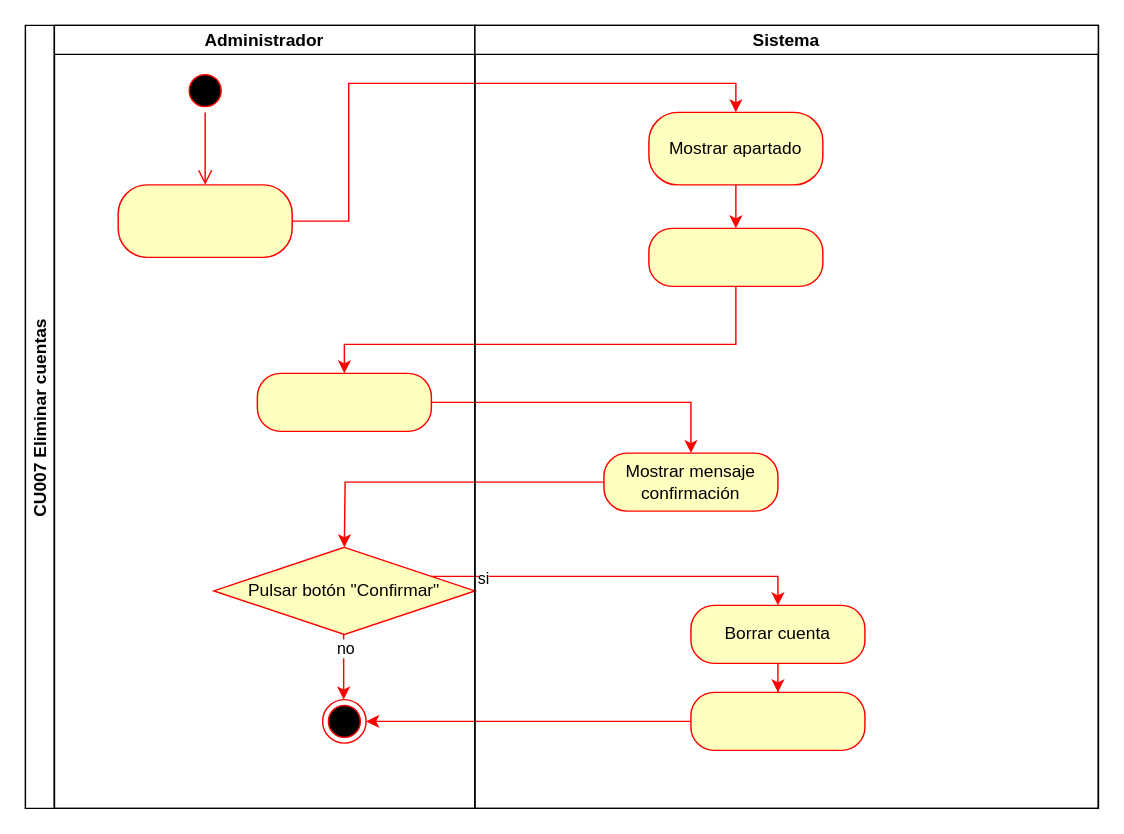
The diagram is 1124 pixels wide and 834 high, and some of its shapes have lost their labels. Here are the shapes that lost their labels. From the top down, the centre of each, then its label:
point (204, 220): Pulsa el apartado "Administrar cuentas"
point (735, 256): Mostrar listado de cuentas
point (343, 401): Pulsar botón "Eliminar cuentas"
point (777, 720): Mostrar mensaje de éxito
